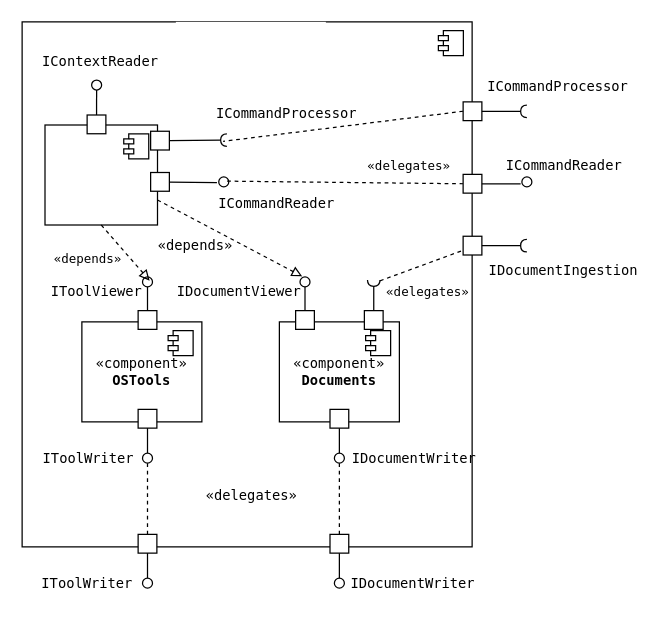
Some shapes in this 660 by 624 pixel diagram are drawn without their labels. Each missing label, with the centre of its shape:
"«component» Qt C++ Frontend" goes at [250,46].
"«component» UserContext" goes at [101,174].
